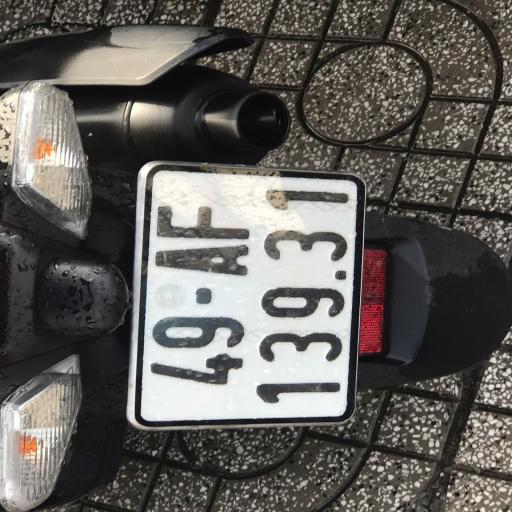1: (256, 178, 361, 222), (245, 378, 353, 407)
3: (256, 224, 358, 282), (256, 330, 352, 374)
4: (140, 353, 252, 392)
9: (248, 286, 355, 328), (145, 311, 252, 352)
A: (150, 242, 262, 283), (152, 241, 258, 282)
F: (152, 205, 265, 243)
